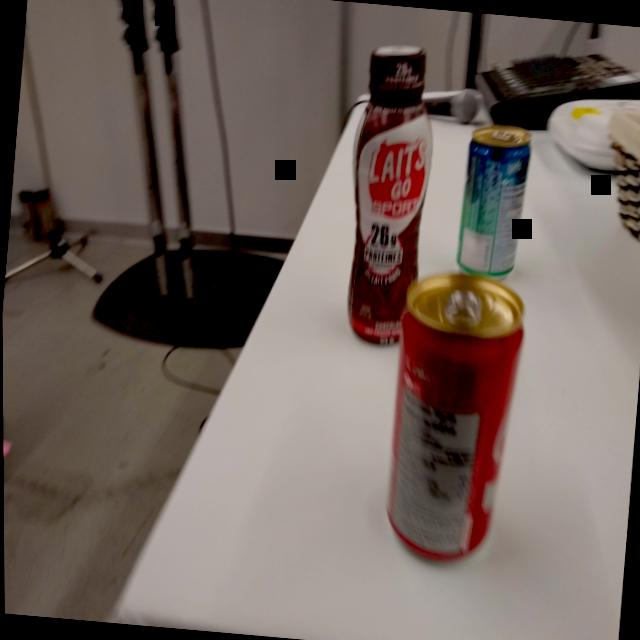chocolate_drink: (331, 38, 447, 354)
coke: (371, 264, 534, 569)
sprite: (449, 119, 534, 284)
